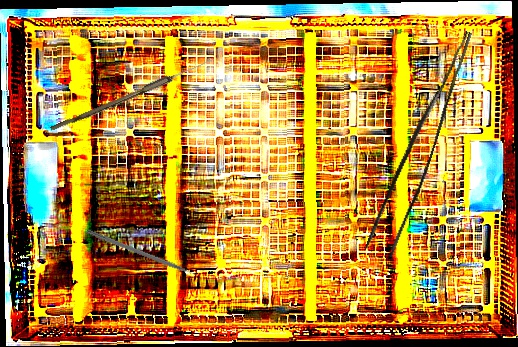Hook Surgical: (85, 228, 207, 282)
Surgical Spoon: (49, 55, 215, 135)
Tissue Forceps: (365, 22, 472, 260)
